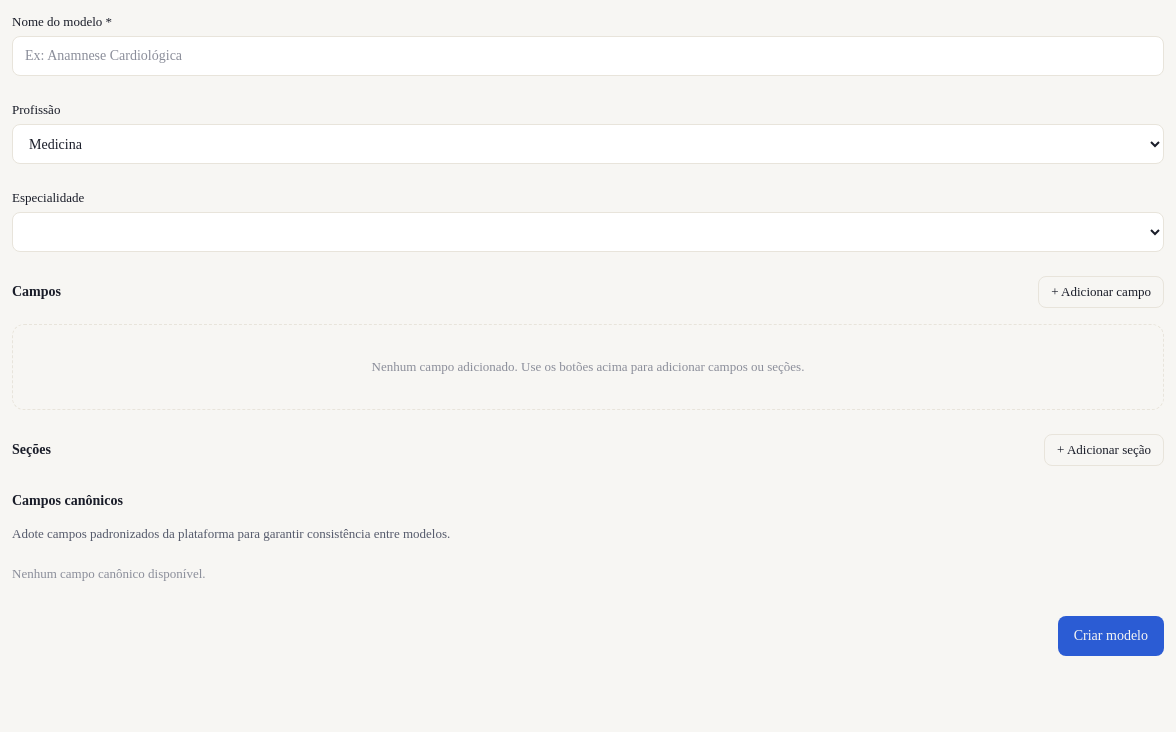
Test case: TemplateForm (integration) › create mode › disables move-down on last field
Step 1. Click the button with test id "template-form-add-field" → (1101, 292), box 1038,276 -> 1164,308
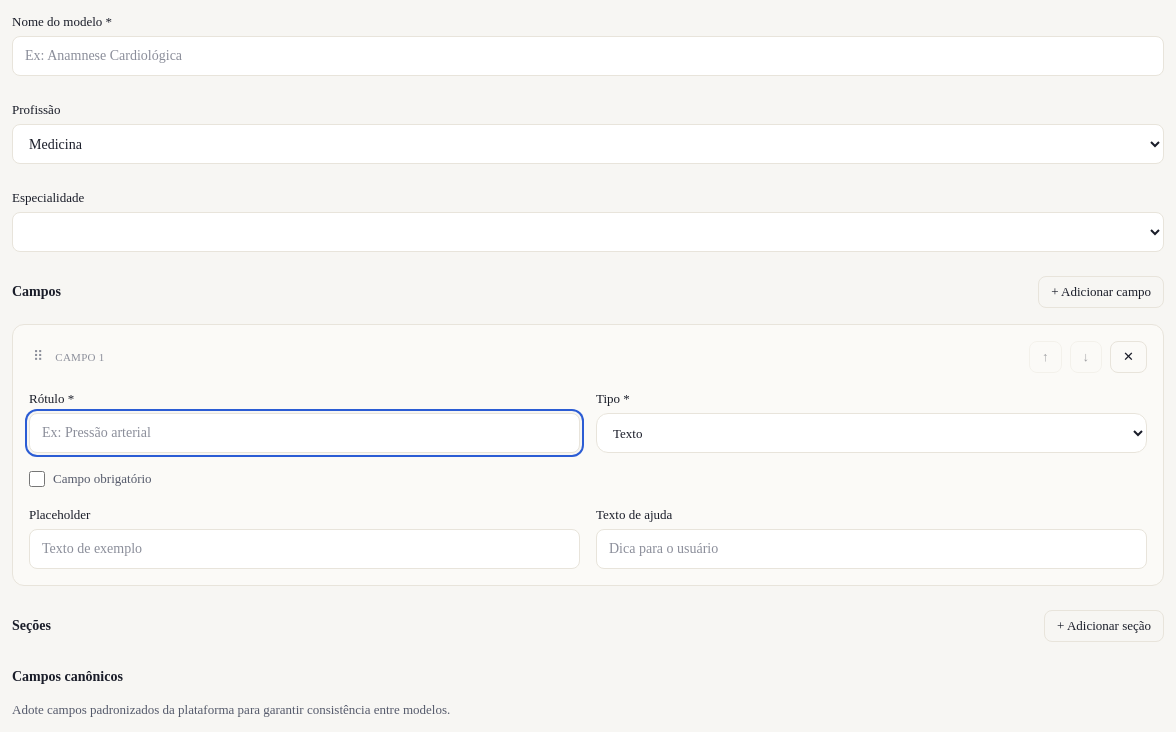
Step 2. Click the button with test id "template-form-add-field" → (1101, 292), box 1038,276 -> 1164,308
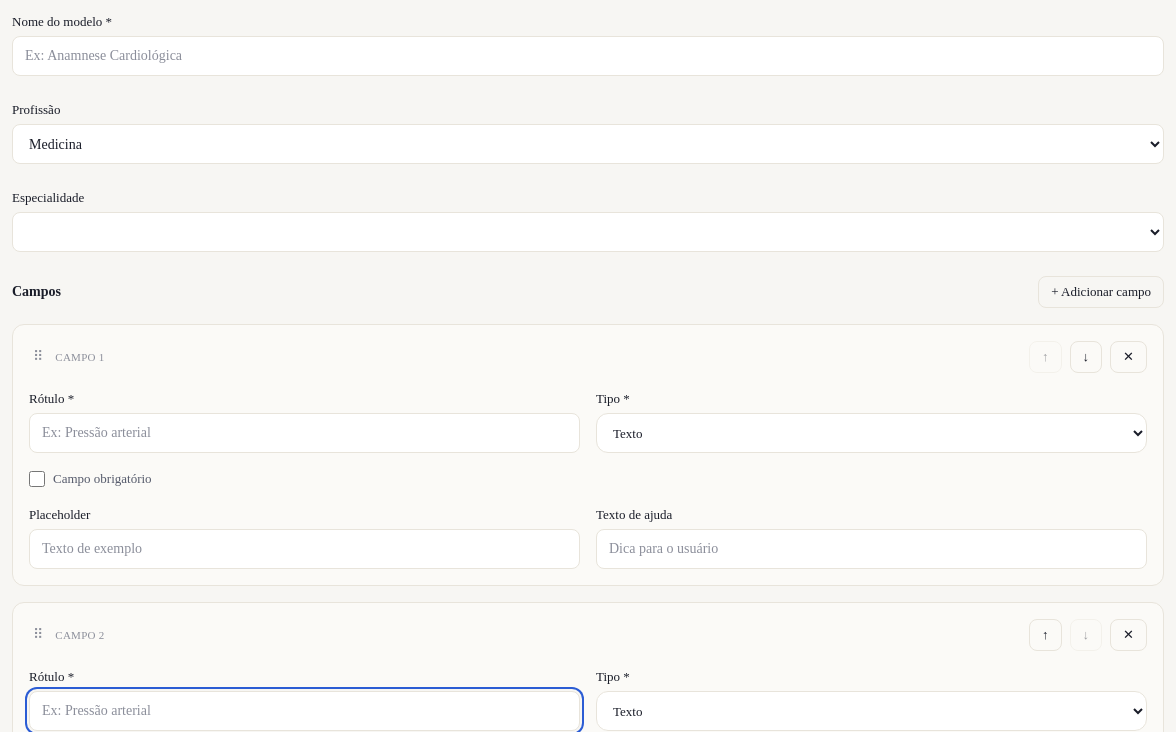
Now the button with test id "field-editor-move-down-1" is disabled, box 1070,619 -> 1102,651
Now the button with test id "field-editor-move-up-1" is enabled, box 1029,619 -> 1062,651
